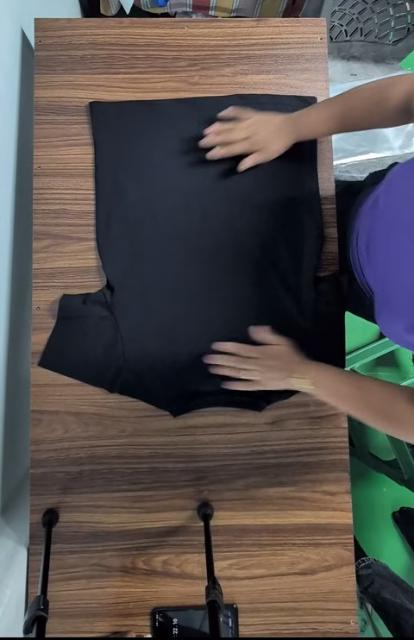new-garment: (39, 95, 343, 417)
